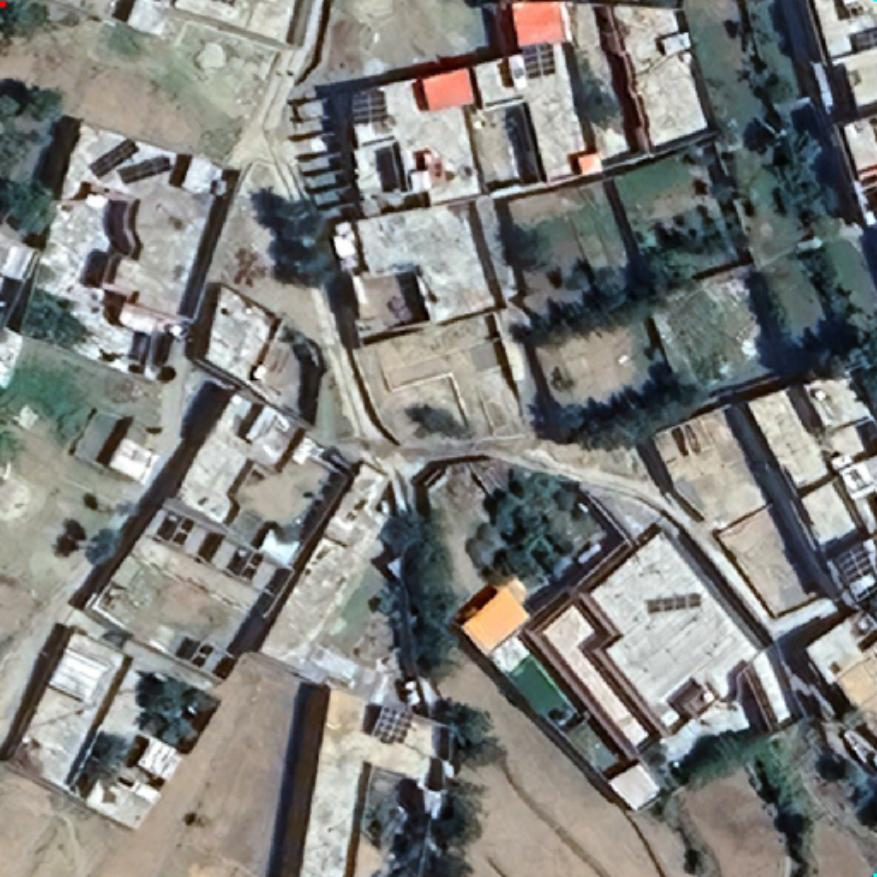Solarpanel: (84, 135, 141, 179), (115, 148, 175, 187), (372, 704, 414, 745), (642, 591, 701, 618), (838, 543, 874, 585), (520, 41, 556, 80), (352, 88, 386, 124)
